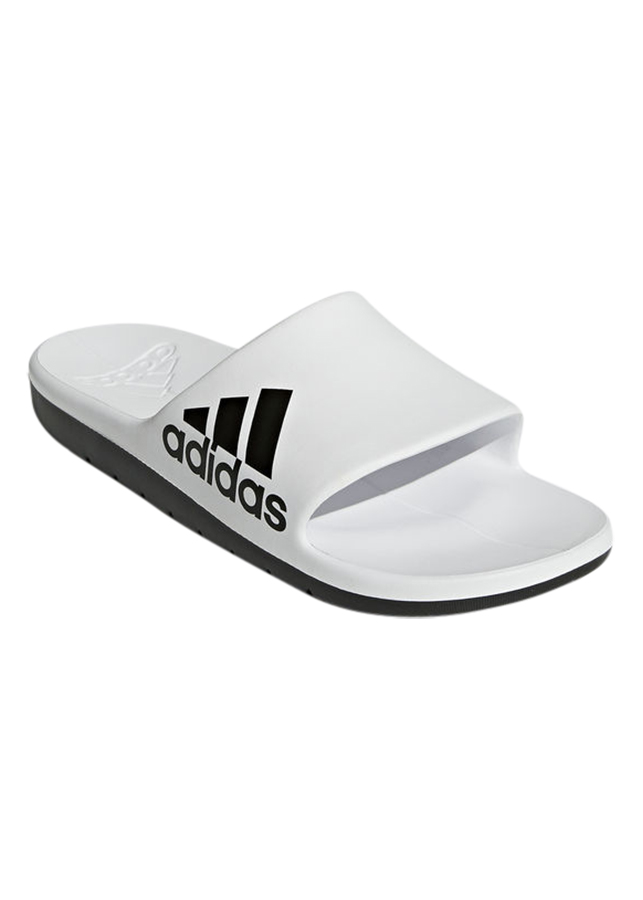Adidas: (161, 379, 301, 535)
